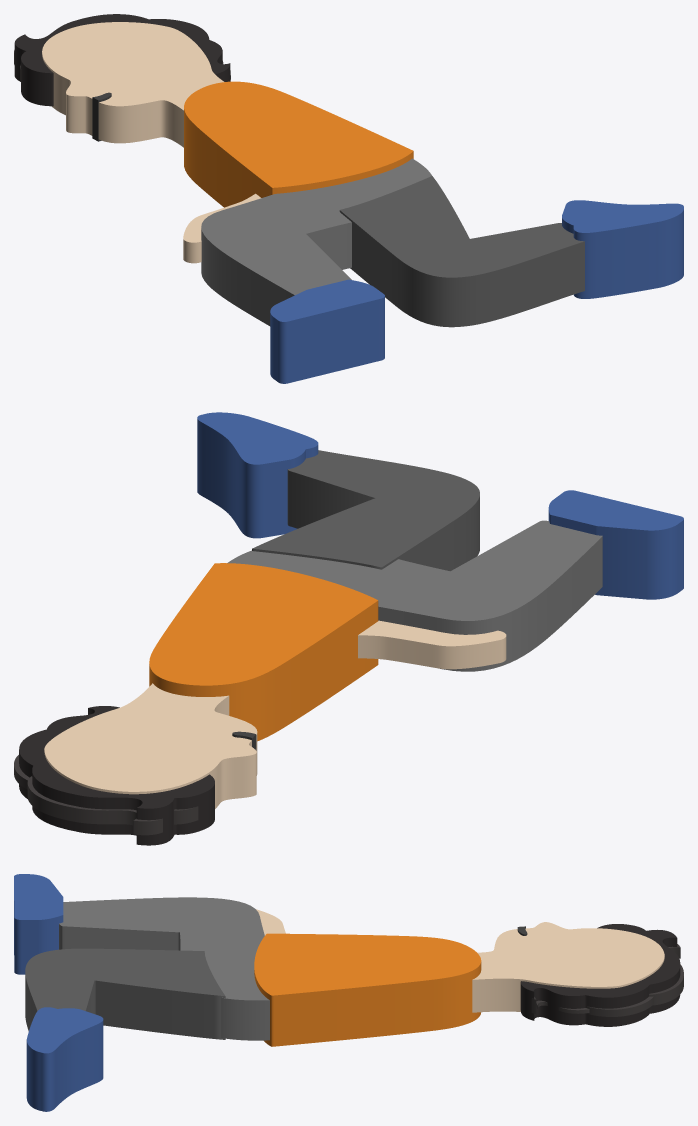
The model's file is emoji_u1f9ce_1f3fb.glb.
The picture shows the model from 3 angles, top to bottom: view 1: azimuth 30°, elevation 25°; view 2: azimuth 150°, elevation 25°; view 3: azimuth 270°, elevation 25°; orthographic projection. The views are drawn at different scales.
Visible parts, largest first — view 1: emoji_u1f9ce_1f3fb; view 2: emoji_u1f9ce_1f3fb; view 3: emoji_u1f9ce_1f3fb.
Boxes of the visible parts, box(x1,y1,x2,y2) form: emoji_u1f9ce_1f3fb: box(14, 14, 683, 383); emoji_u1f9ce_1f3fb: box(14, 412, 683, 845); emoji_u1f9ce_1f3fb: box(14, 874, 683, 1111).
Size of the model in its own units: 0.0213 by 0.0032 by 0.0332.
